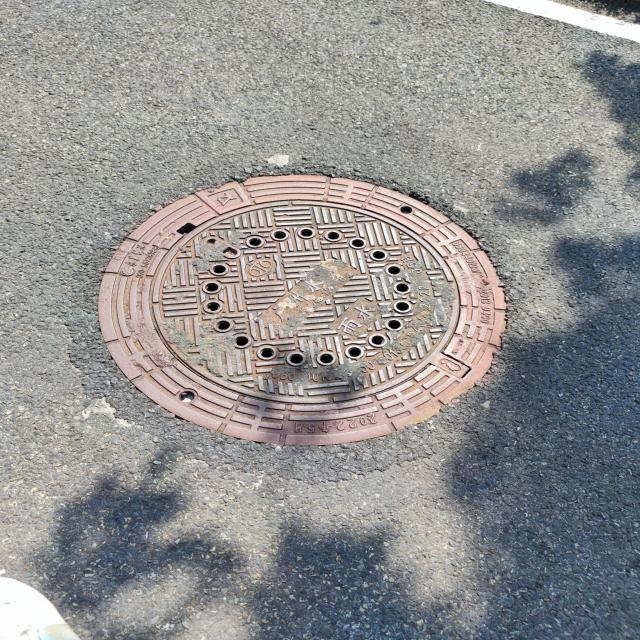Good: (88, 168, 528, 458)
